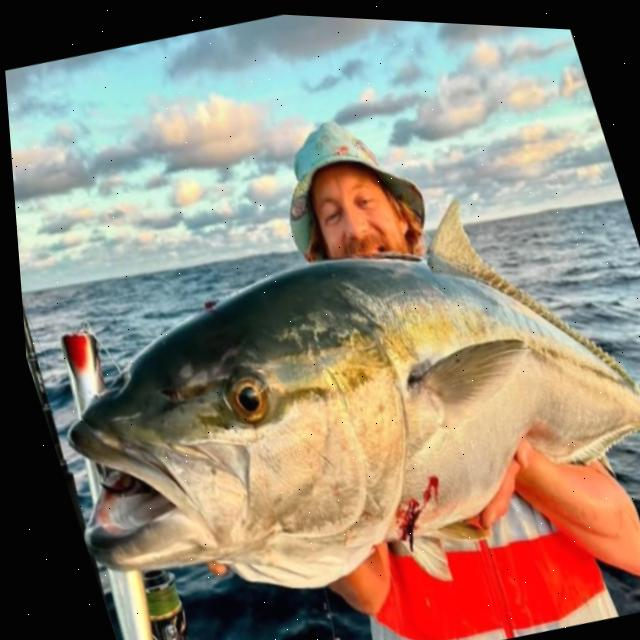Kingfish: (7, 128, 640, 640)
